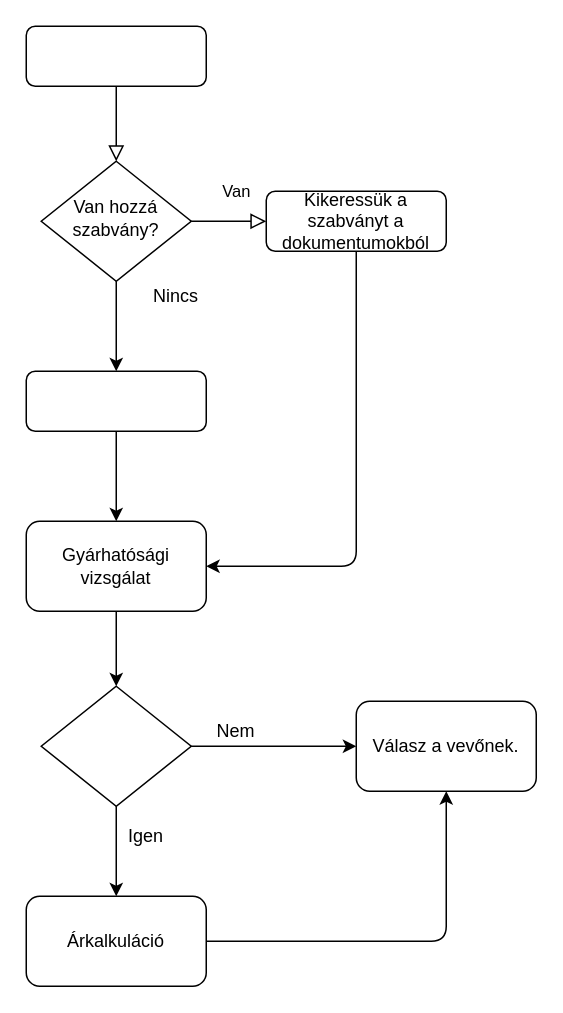
This 563x1013 diagram has some shape labels left out. The centre of each missing label's shape, as x and y in pixels:
Beérkezik az ajánlat kérés: point (115, 55)
Gyártható a termék?: point (115, 745)
Megkérdezni a vevőt.: point (115, 400)
